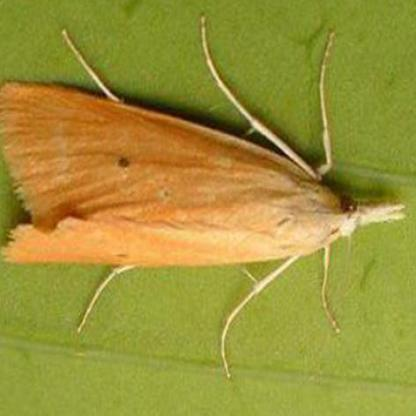stem-borer: (0, 74, 407, 323)
